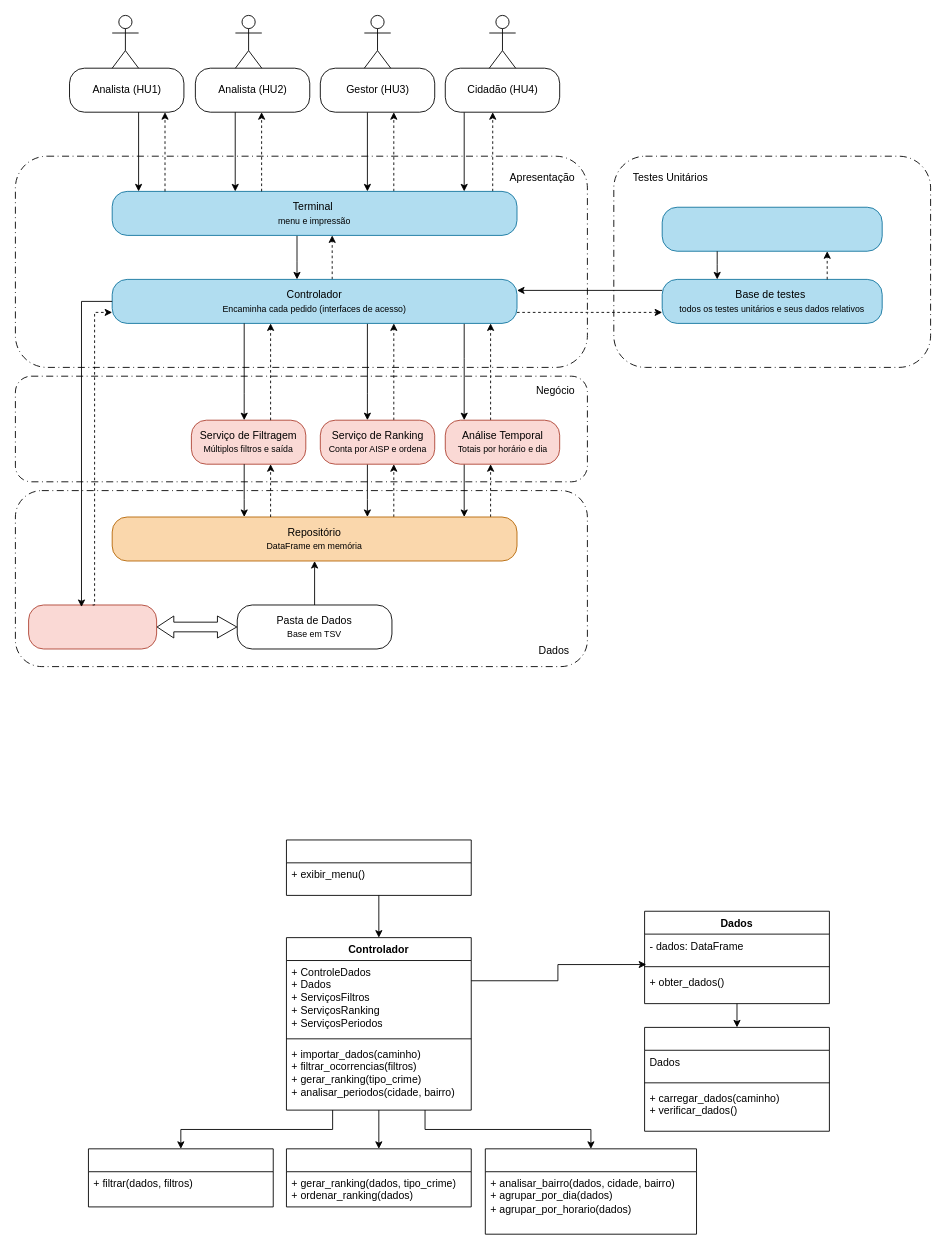
The diagram is 946 pixels wide and 1252 high, and some of its shapes have lost their labels. The shapes that lost their labels are listed below. From the top down, each one's box as (x1, y1, x2, y2) in pixels, then its label:
(661, 206, 882, 251): Execução de testes organiza e executa os testes unitários
(28, 604, 157, 649): Serviço carregar dados e processamento de entrada
(286, 839, 471, 895): Terminal
(644, 1027, 829, 1131): ControleDados
(88, 1148, 273, 1207): ServiçosFiltro
(286, 1148, 471, 1207): ServiçosRanking
(484, 1148, 697, 1234): ServiçosPeriodos
